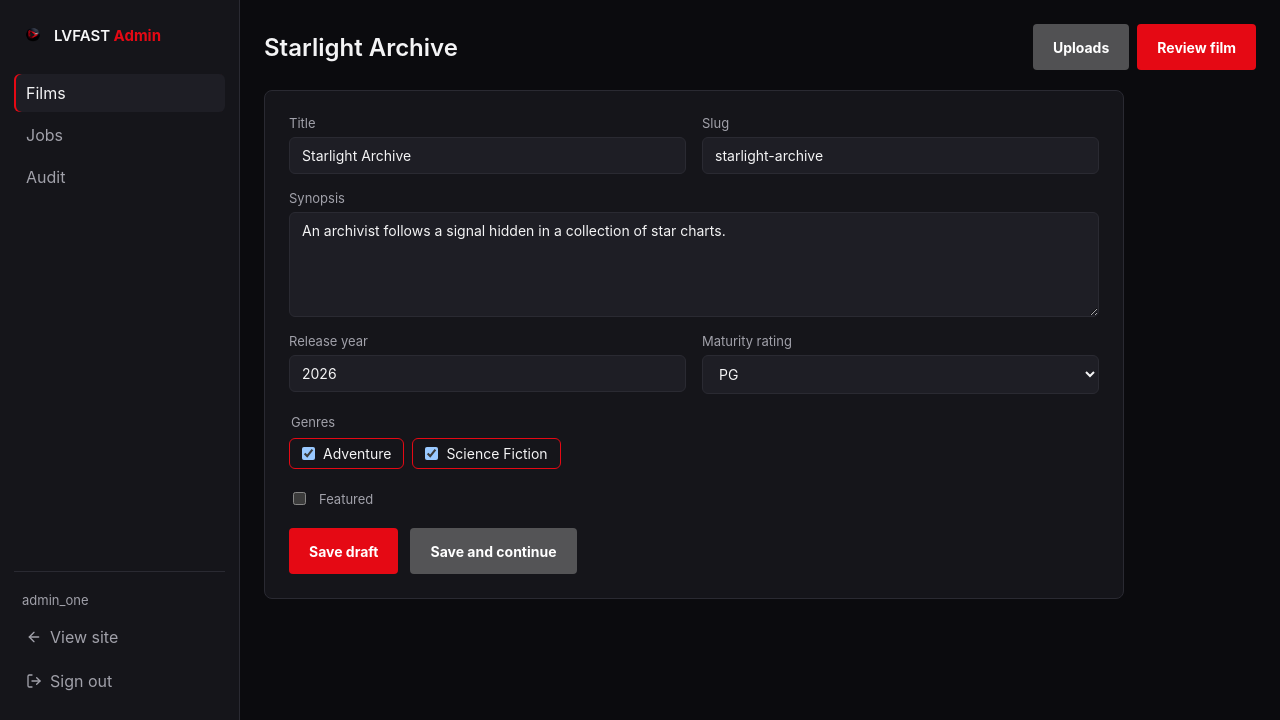
Test: Movie editor › loads a movie and genres and updates with the current revision
Replace the text in the field labelled "Title" with "Renamed" at x=488, y=156, box [289,137,686,174]
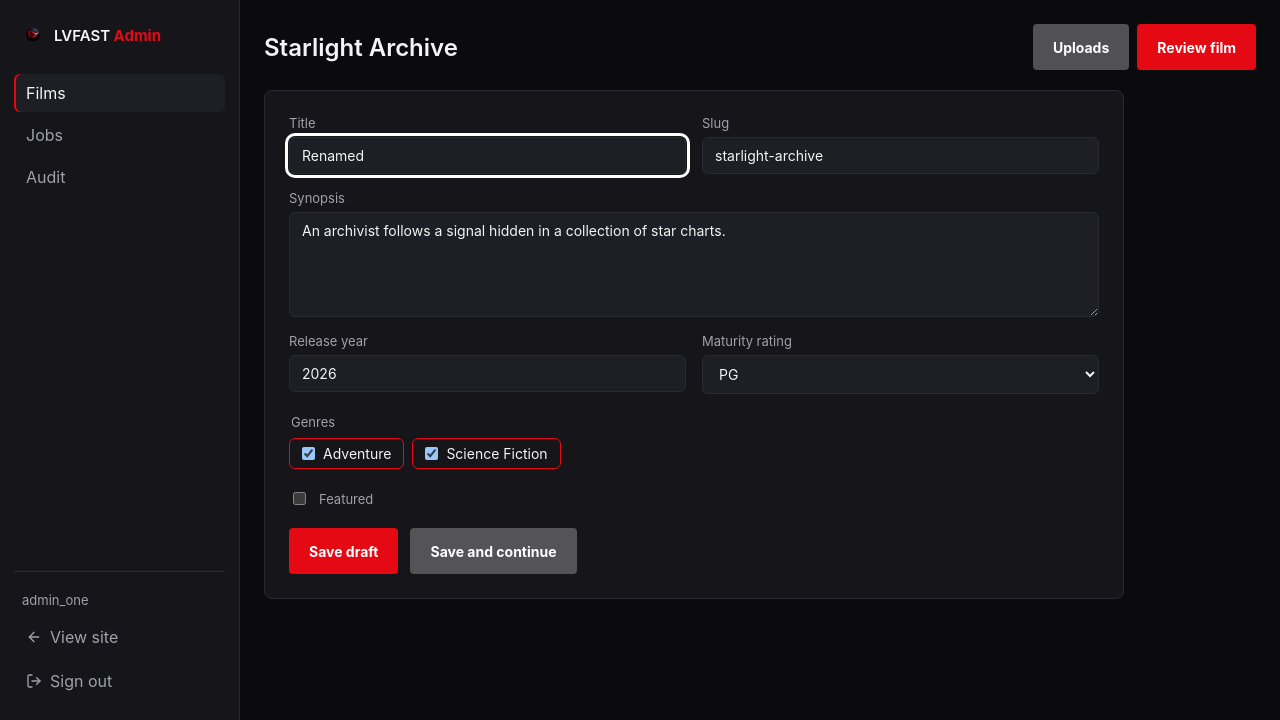
Click the button "Save and continue" at x=494, y=551, box [410,528,577,574]
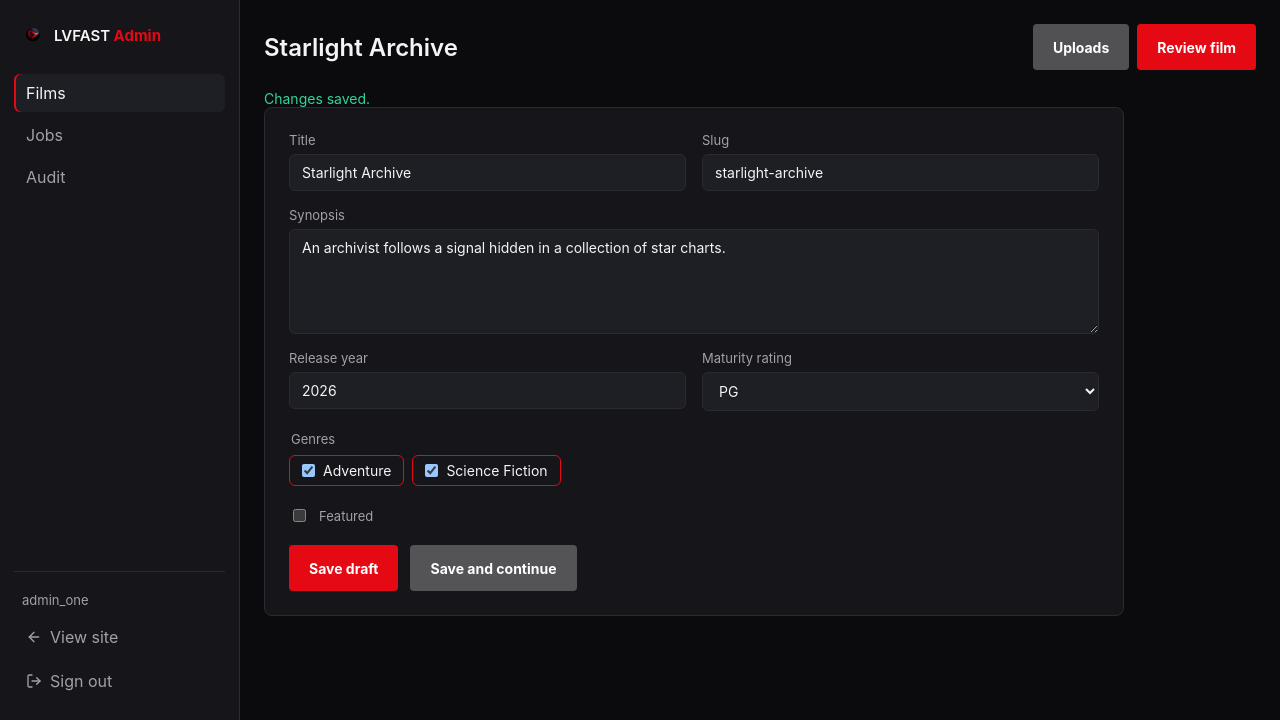
Result: the text "Changes saved." is shown at [264,90,370,107]
